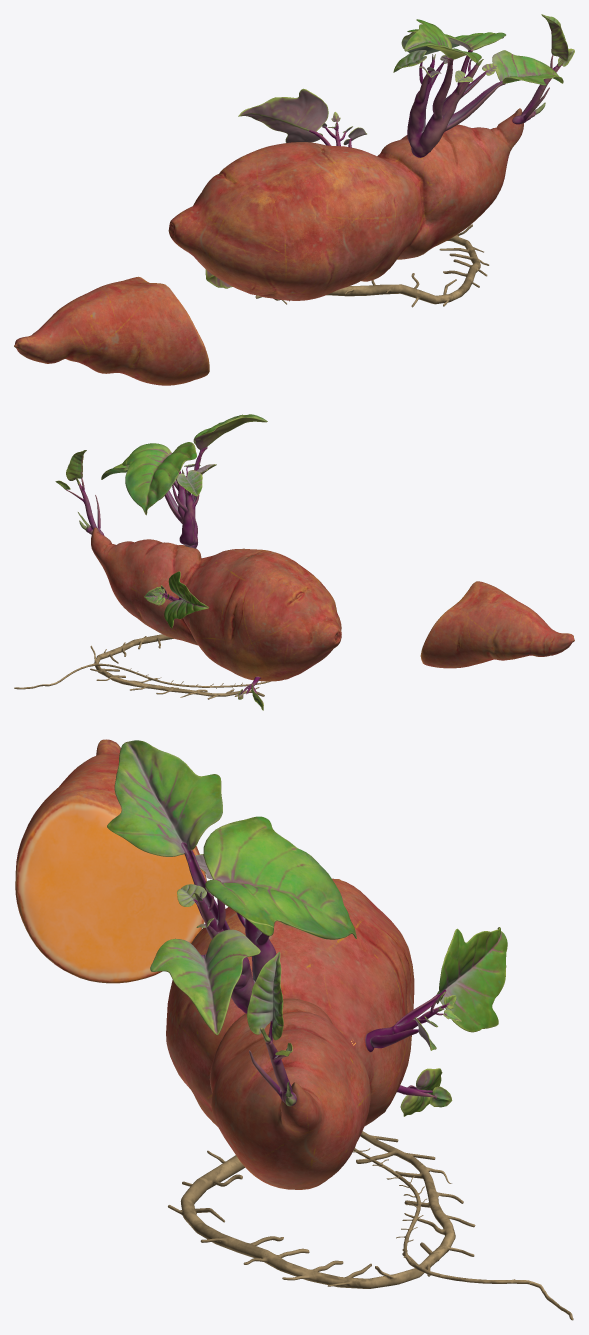
File: sweet_potato.glb
3 views of the same model, one above another, from view 1: azimuth 30°, elevation 25°; view 2: azimuth 150°, elevation 25°; view 3: azimuth 270°, elevation 25° (orthographic). The views are drawn at different scales.
Visible parts, largest first — view 1: Object_3, Object_4, Object_2, Object_5; view 2: Object_3, Object_4, Object_2, Object_5; view 3: Object_3, Object_4, Object_2, Object_5.
Boxes of the visible parts, x1,y1,x2,y2 form: Object_3: (14, 108, 523, 385); Object_4: (205, 14, 574, 288); Object_2: (255, 50, 571, 307); Object_5: (401, 30, 563, 83); Object_3: (91, 527, 574, 681); Object_4: (55, 414, 267, 710); Object_2: (14, 447, 270, 699); Object_5: (102, 442, 196, 511); Object_3: (15, 739, 414, 1189); Object_4: (107, 740, 507, 1116); Object_2: (168, 842, 573, 1320); Object_5: (175, 816, 355, 1034).
Size of the model in its own units: 301 by 138 by 153.
Materials: 3 (3 with a texture image).
